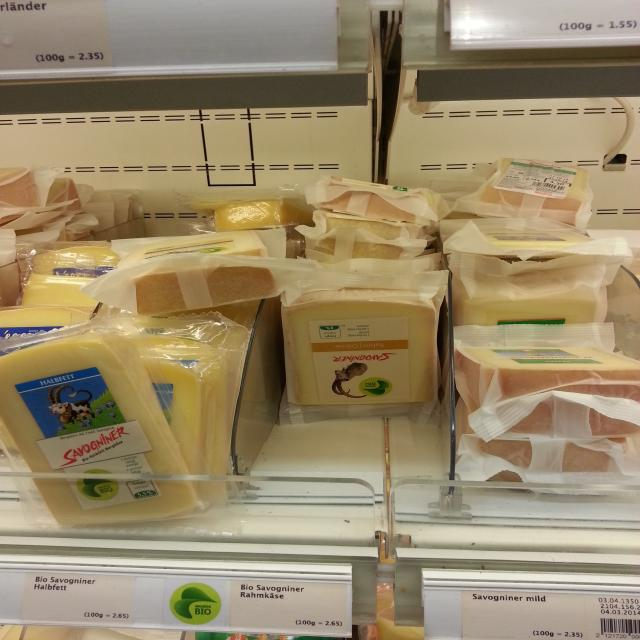Cheese: (0, 318, 207, 526), (277, 284, 441, 418), (452, 322, 640, 434), (116, 229, 278, 317), (434, 216, 631, 260), (312, 172, 453, 228), (477, 155, 596, 216), (212, 194, 312, 234)
